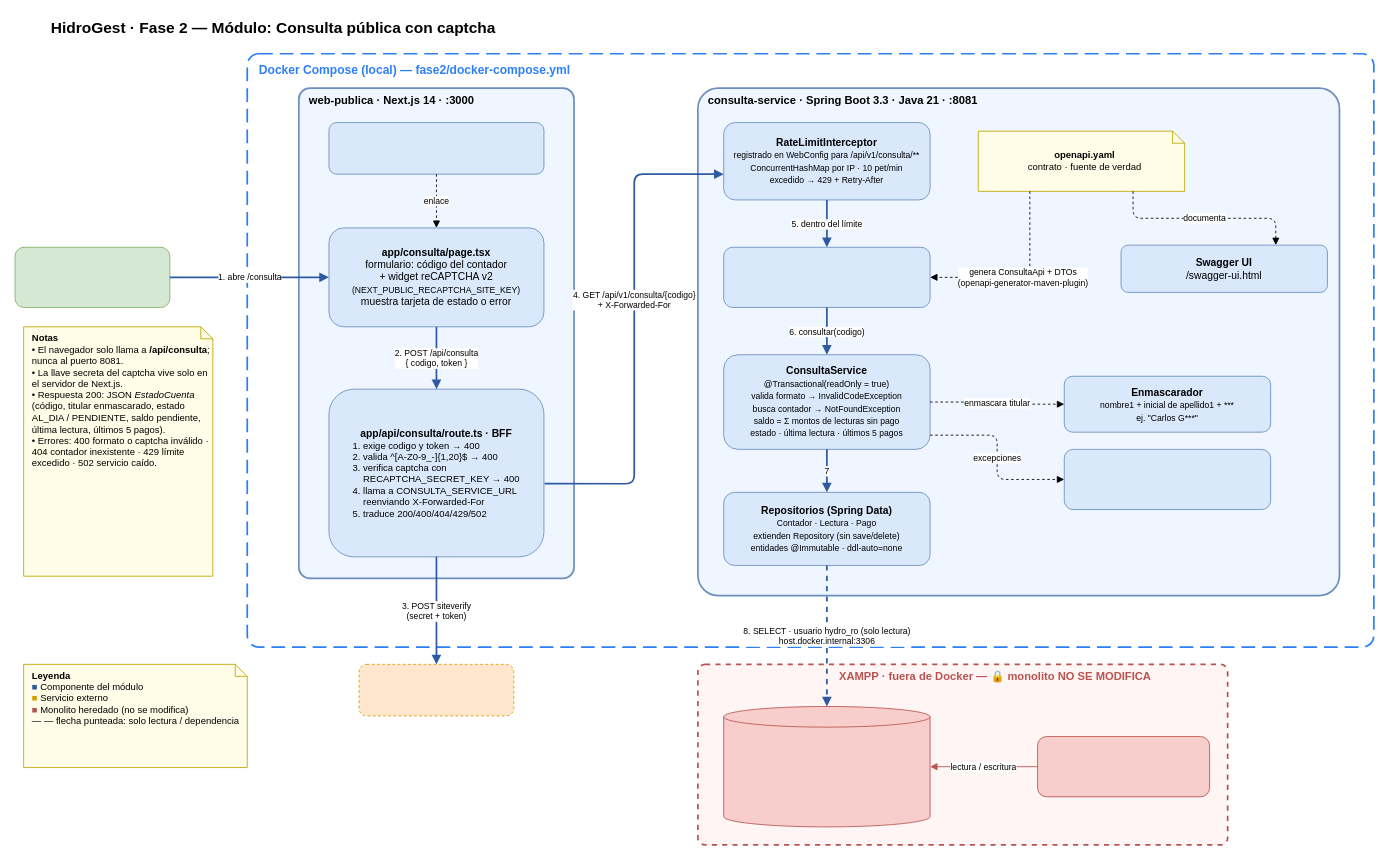
Some shapes in this 1390 by 860 pixel diagram are drawn without their labels. The centre of each missing label's shape, as x and y in pixels:
app/page.tsx inicio · botón "Iniciar Consulta Pública": [436,148]
Cliente final Navegador · sin login: [92,276]
ConsultaController @RestController implementa ConsultaApi: [826,276]
GlobalExceptionHandler @RestControllerAdvice 400 · 404 · 500 → ErrorRespuesta: [1167,479]
Google reCAPTCHA v2 siteverify: [436,689]
Laravel (Fase 1) sin cambios: [1123,766]
MariaDB · base hidrogest tb_clientes · tb_contadores tb_lecturas · tb_pagos: [826,766]
